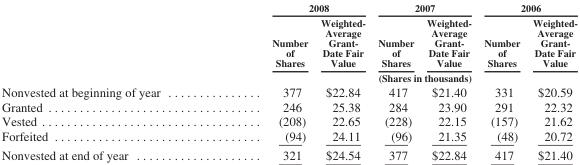table: (1, 1, 576, 161)
table column: (1, 1, 215, 161), (215, 1, 313, 161), (313, 1, 371, 161), (419, 1, 477, 161), (525, 1, 576, 161), (371, 1, 419, 161), (477, 1, 525, 161)
table column header: (1, 1, 576, 84)
table row: (1, 14, 576, 70), (1, 128, 576, 145), (1, 145, 576, 161), (1, 98, 576, 113), (1, 113, 576, 128), (1, 70, 576, 84), (1, 84, 576, 98), (1, 1, 576, 14)
table spanning cell: (215, 70, 576, 84), (215, 1, 371, 14), (371, 1, 477, 14), (477, 1, 576, 14)
